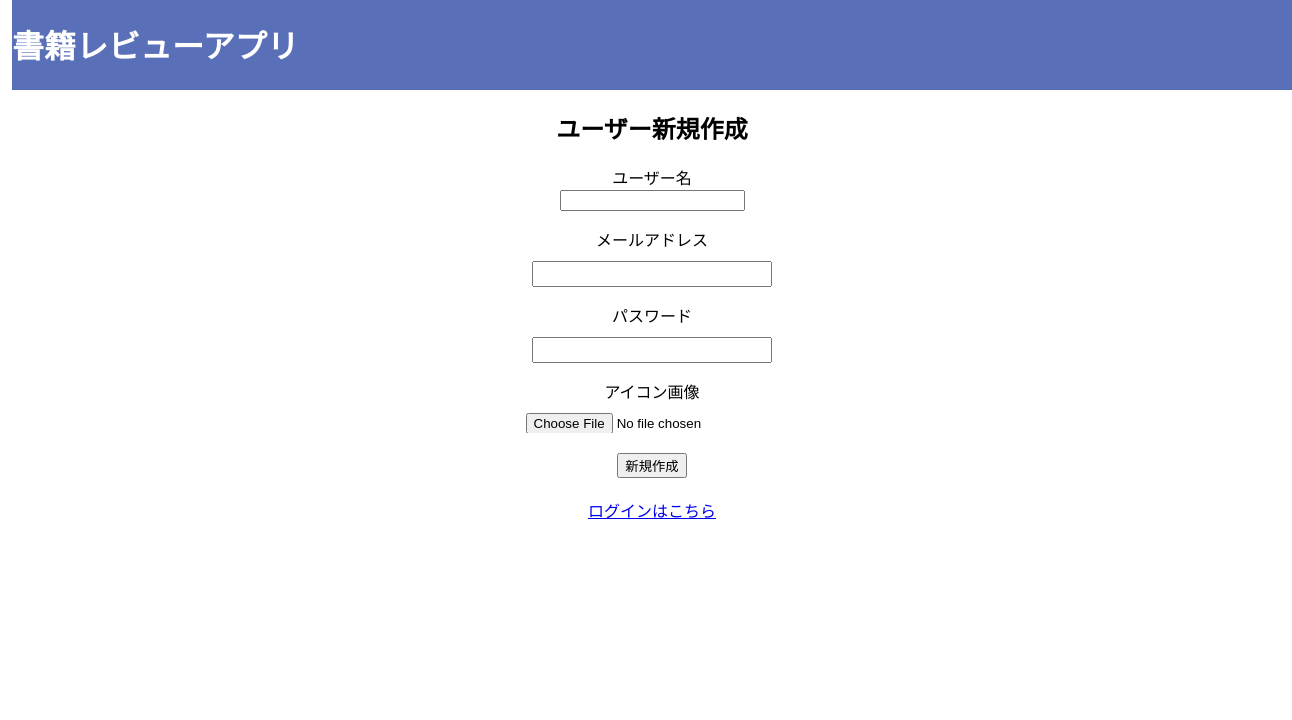
Test: メールアドレスの入力フォームのテスト › 無効な値が入力された場合、エラーメッセージを表示する
The width and height of the screenshot is (1292, 720).
Step 1. Type "invalid-email" into the field with class "email-input" → (652, 274), box x1=532 y1=261 x2=772 y2=287
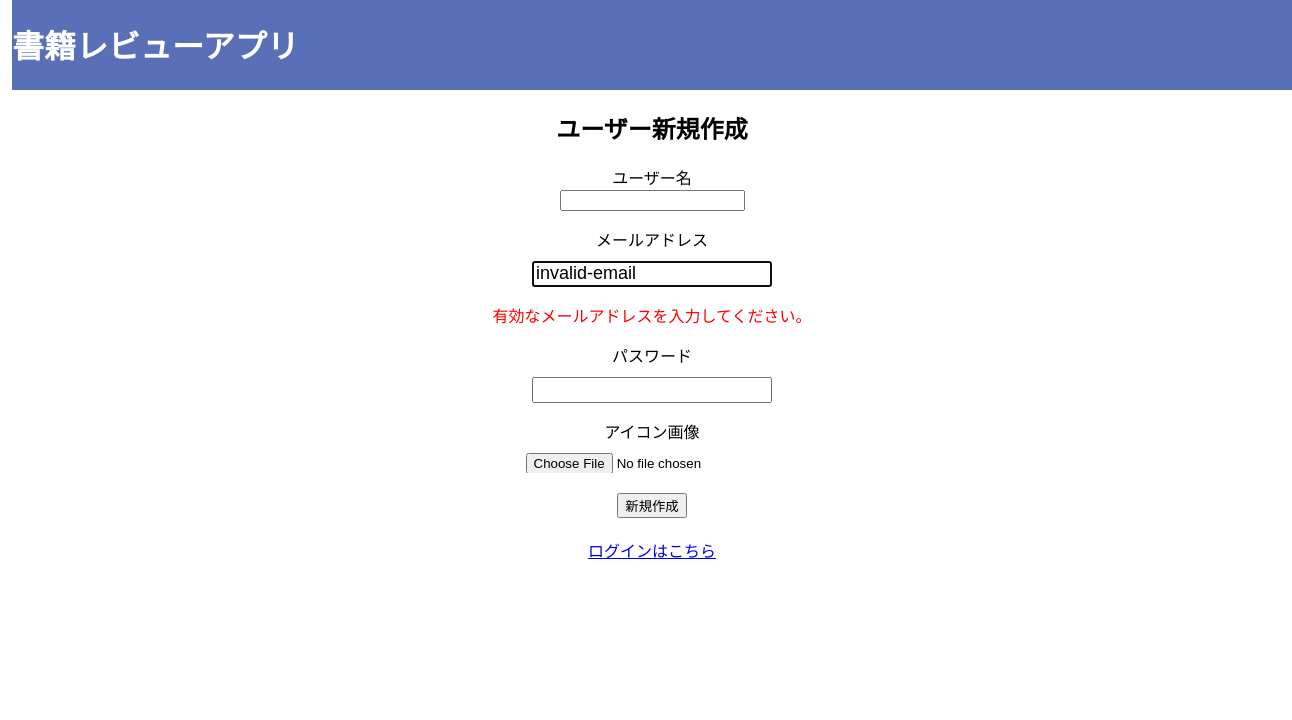
Now the text with class "errormessage-email" shows "有効なメールアドレスを入力してください", box x1=492 y1=306 x2=811 y2=326
